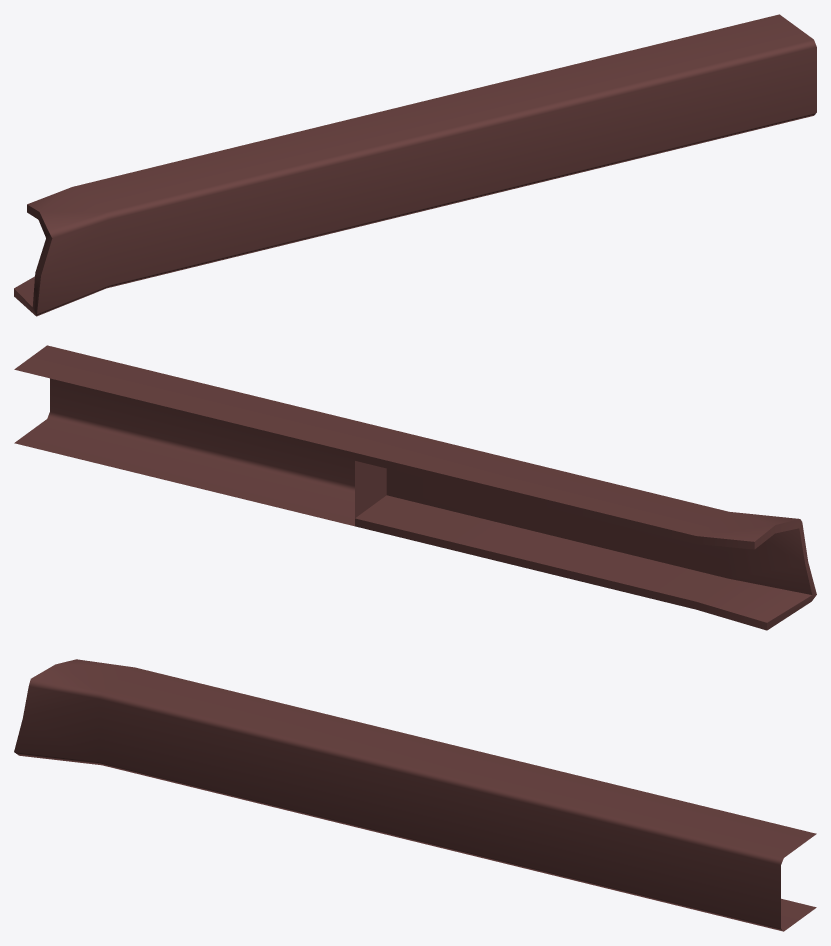
File: DBK_Trim_D_End_Mirror.fbx
The picture shows the model from 3 angles, top to bottom: view 1: azimuth 30°, elevation 25°; view 2: azimuth 150°, elevation 25°; view 3: azimuth 330°, elevation 25°; orthographic projection. The views are drawn at different scales.
Visible parts, largest first — view 1: DBK_Trim_D_End_Mirror; view 2: DBK_Trim_D_End_Mirror; view 3: DBK_Trim_D_End_Mirror.
Boxes of the visible parts, bbox=[...] form: DBK_Trim_D_End_Mirror: bbox=[14, 14, 816, 316]; DBK_Trim_D_End_Mirror: bbox=[14, 345, 816, 630]; DBK_Trim_D_End_Mirror: bbox=[14, 659, 816, 931].
Bounding box in the file's own units: 136 × 15.61 × 13.46.
